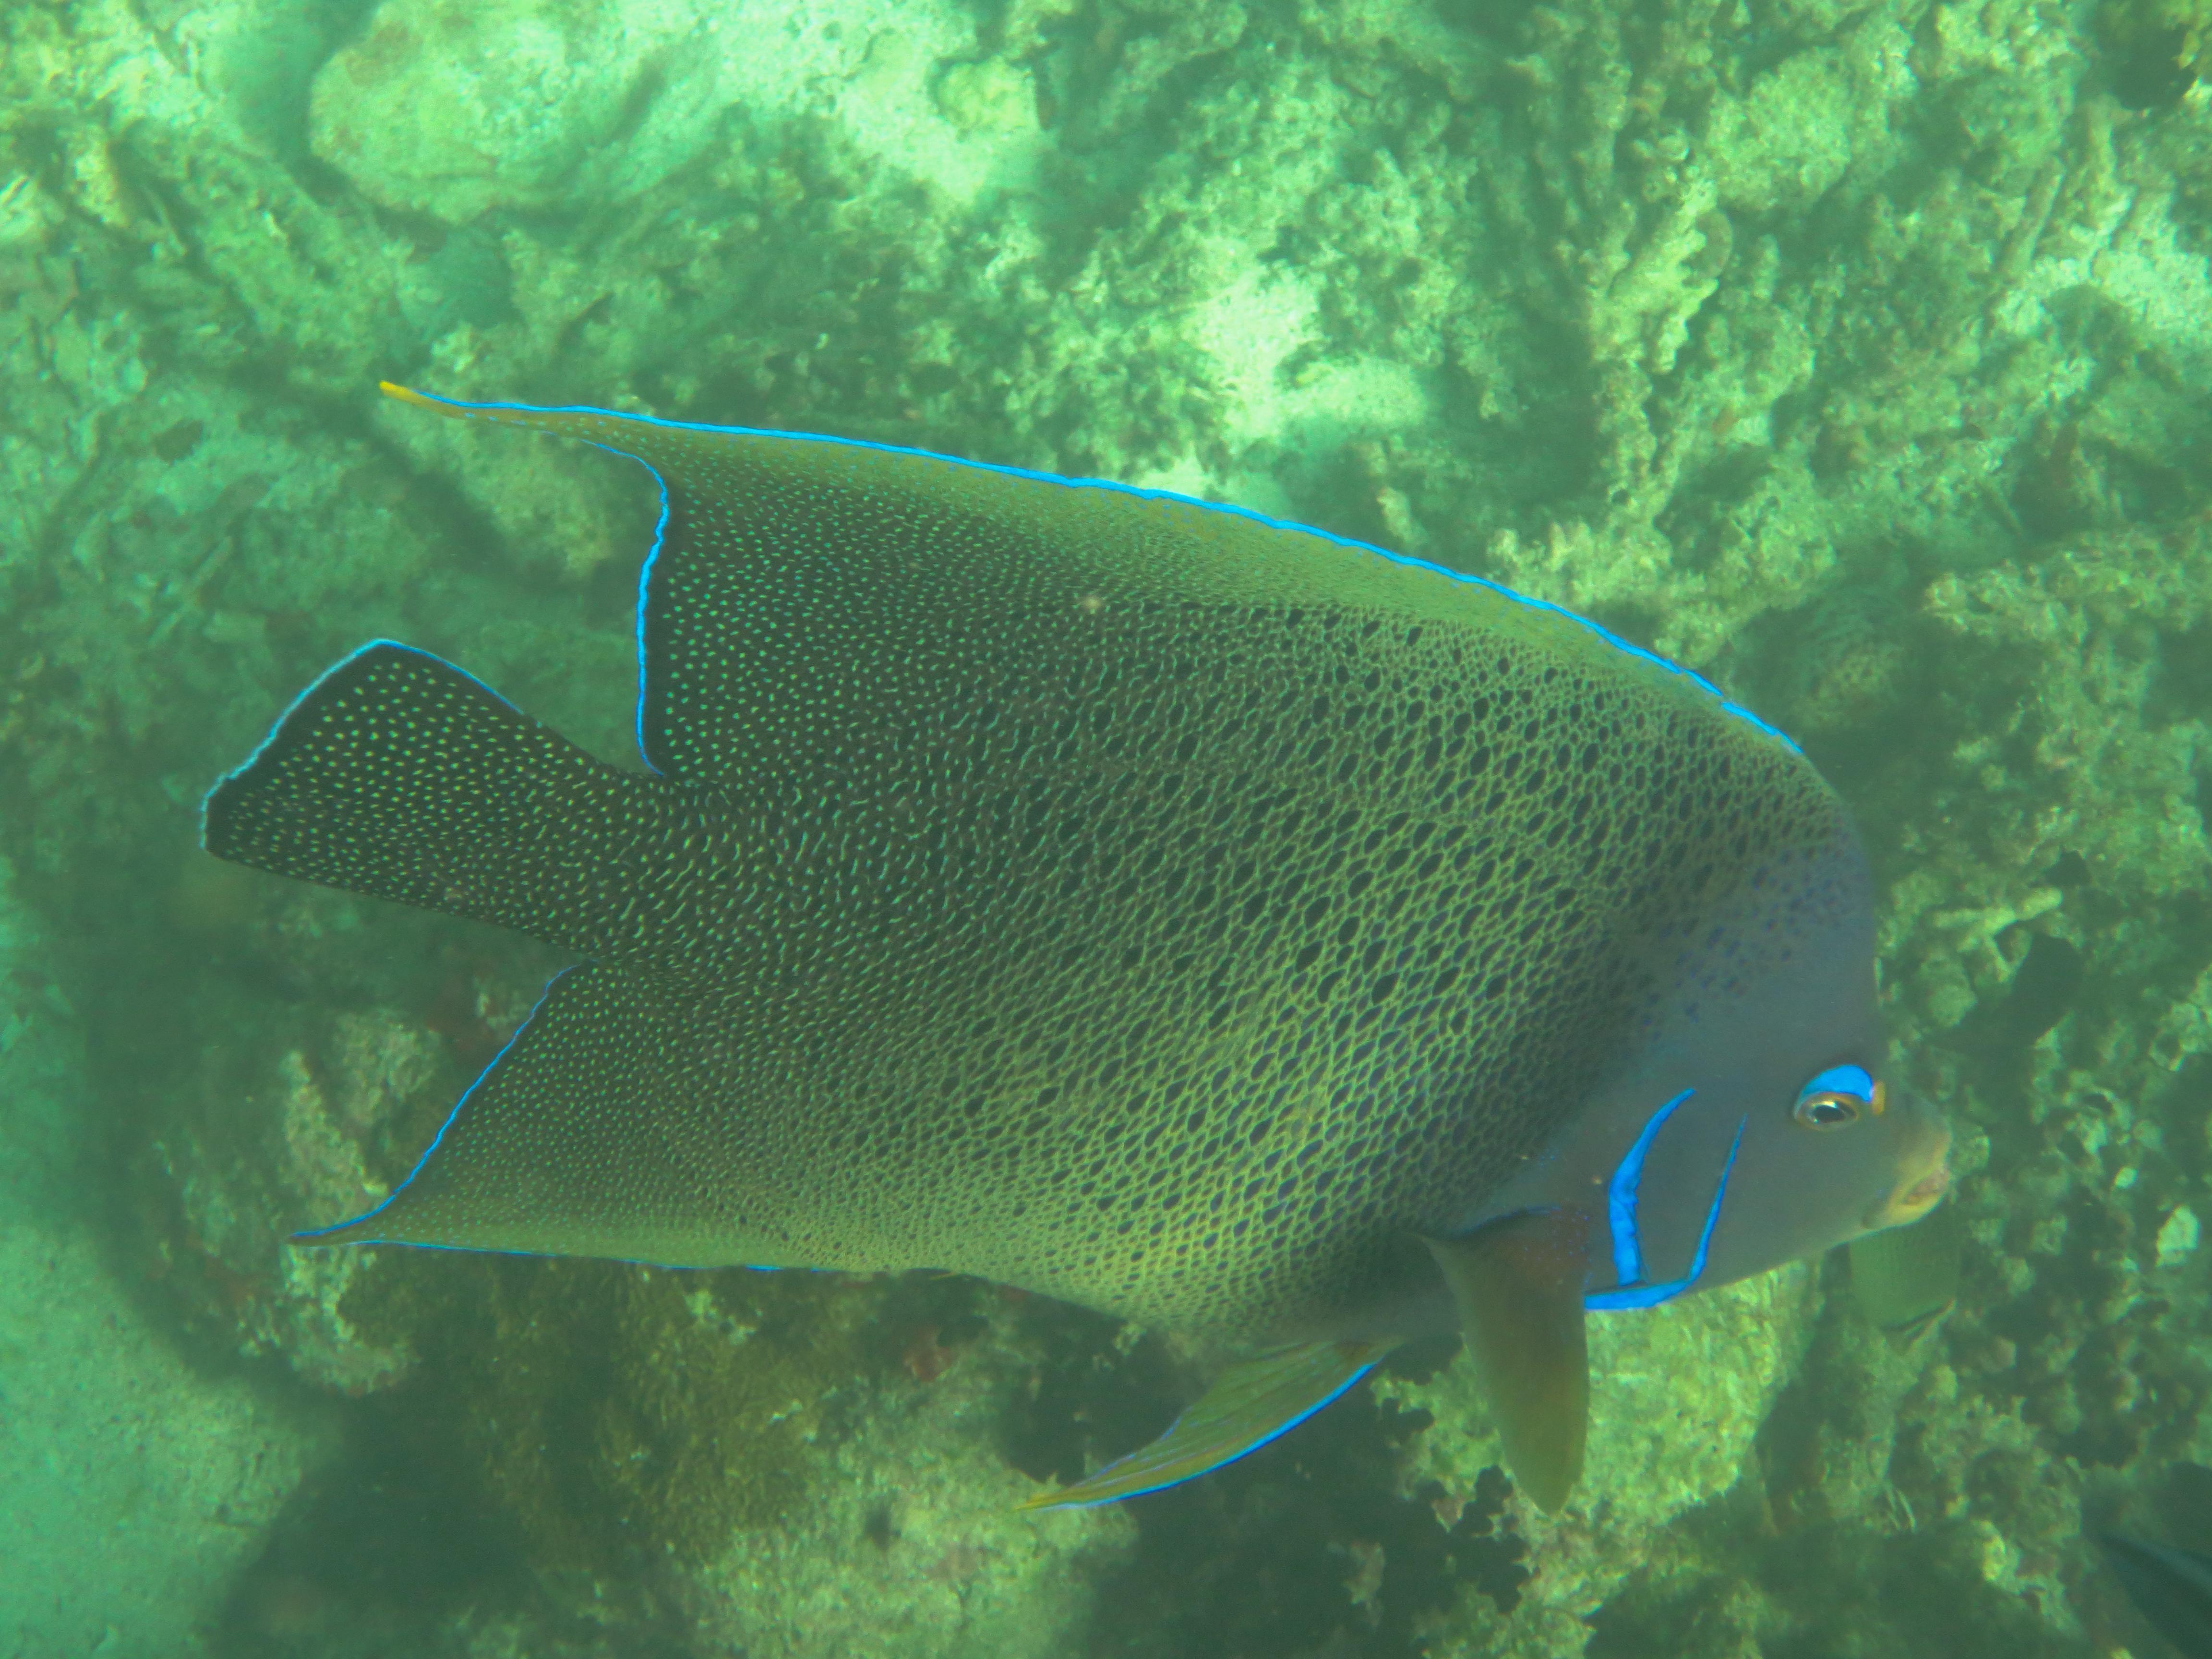Pomacanthus semicirculatus: (136, 213, 2045, 1575)
